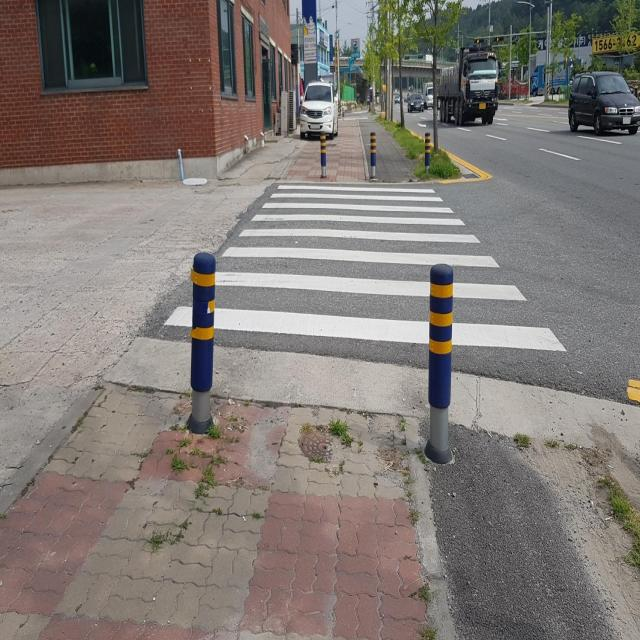횡단보도: (162, 182, 568, 354)
